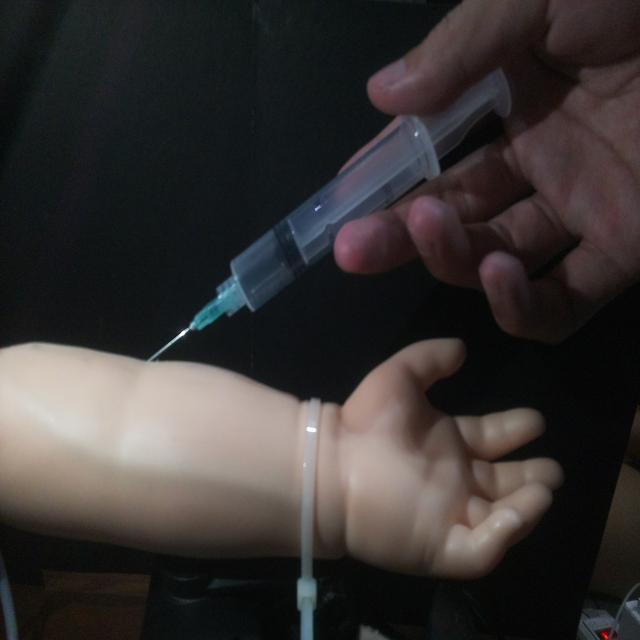26deg: (142, 63, 515, 365)
